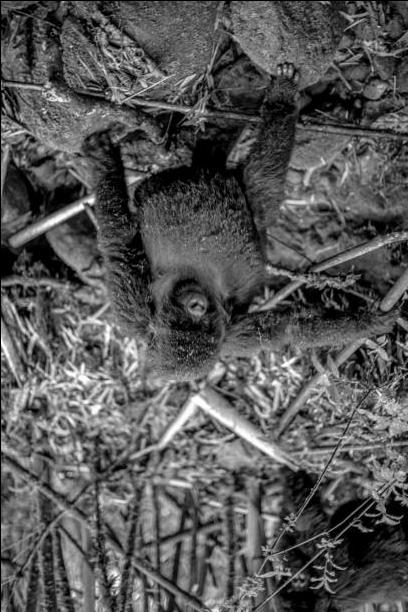goriile_montagne: (41, 63, 373, 414), (254, 483, 394, 612)
